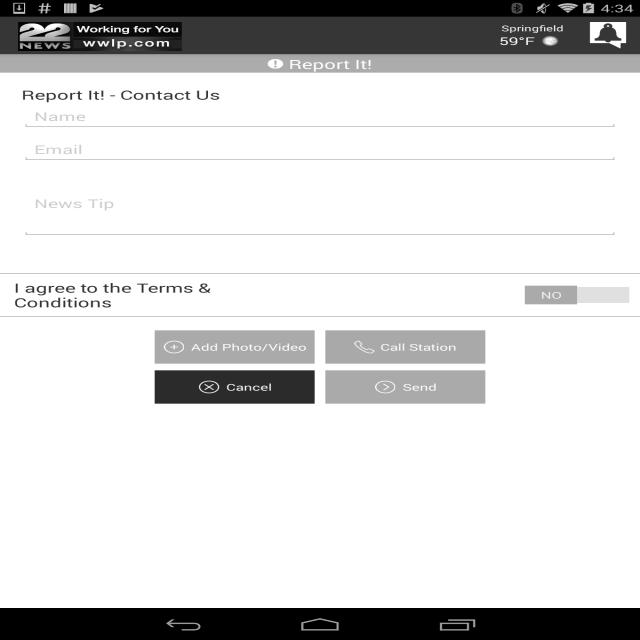EditText: (21, 169, 619, 238), (21, 103, 619, 130), (21, 136, 619, 163)
ImageView: (18, 22, 182, 51), (587, 22, 629, 49), (535, 34, 565, 48), (373, 381, 398, 393), (197, 381, 221, 393), (162, 341, 185, 353), (354, 341, 375, 353), (268, 59, 283, 69), (13, 35, 14, 36)
Switch: (522, 286, 632, 304)
TextView: (21, 86, 619, 103), (21, 244, 619, 260), (14, 279, 227, 311), (289, 55, 372, 73), (191, 341, 307, 353), (380, 341, 457, 353), (500, 22, 566, 34), (226, 381, 272, 393), (499, 34, 535, 48), (402, 381, 437, 393)
